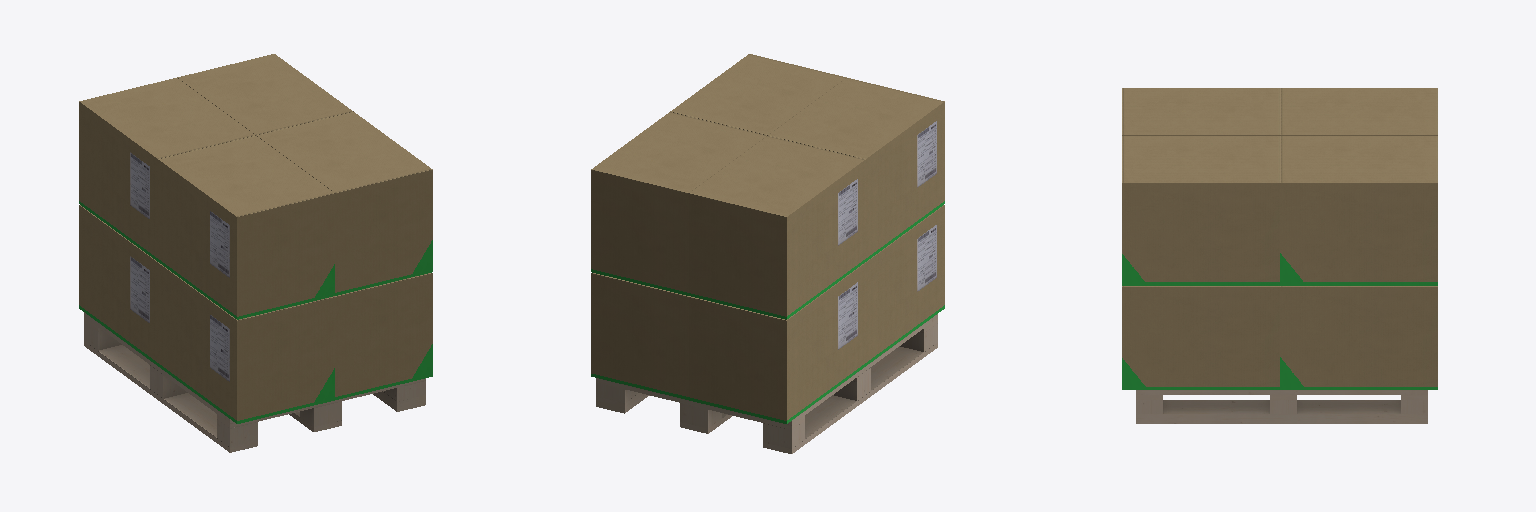
3 renders of one model, left to right at view 1: azimuth 30°, elevation 25°; view 2: azimuth 150°, elevation 25°; view 3: azimuth 270°, elevation 25°, orthographic.
Visible parts, largest first — view 1: SND_zhixiang; view 2: SND_zhixiang; view 3: SND_zhixiang.
Part boxes in pixels (x1,y1,x2,y2): SND_zhixiang: (79, 54, 432, 452); SND_zhixiang: (591, 54, 944, 453); SND_zhixiang: (1122, 88, 1437, 423).
Size of the model in its own units: 901 by 1062 by 1263.
Materials: 1 (1 with a texture image).